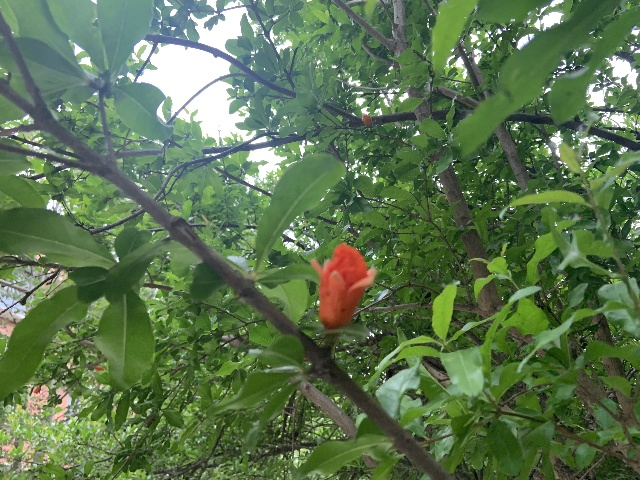bud: (362, 113, 372, 126)
flower: (311, 242, 376, 331), (33, 387, 41, 394)
